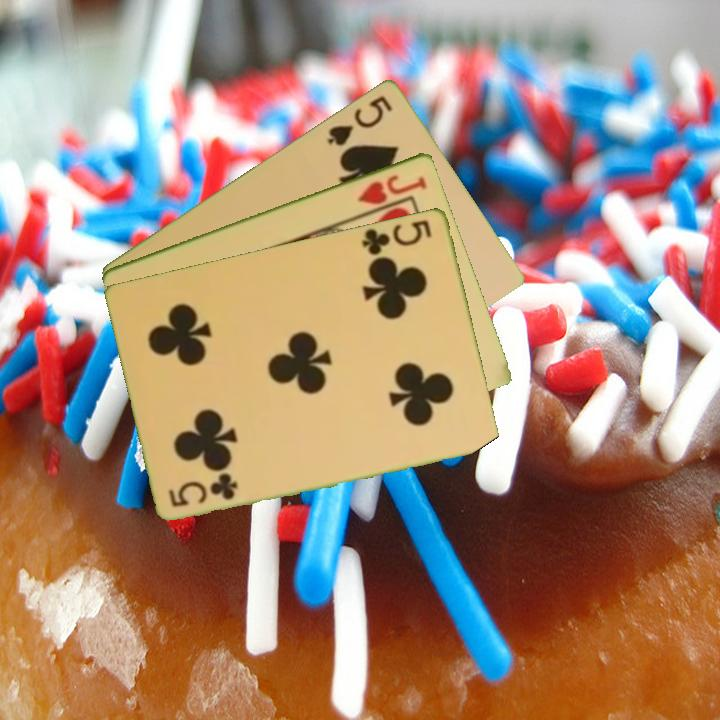5c: (358, 215, 435, 261), (165, 471, 241, 509)
5s: (324, 91, 395, 149)
Jh: (354, 170, 430, 207)
